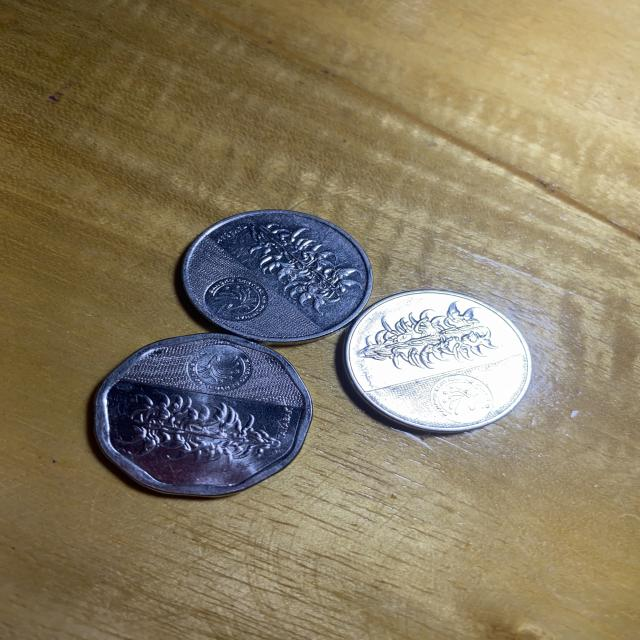5_New_Back: (105, 396, 277, 468)
